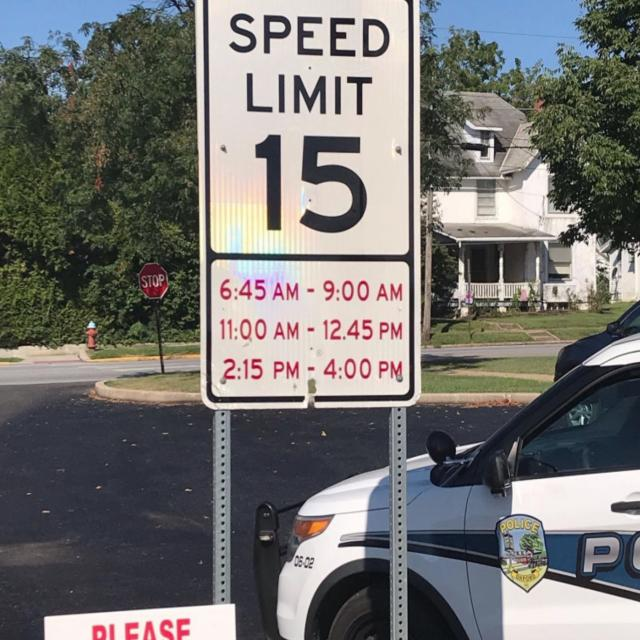speedLimit15: (198, 5, 418, 266)
